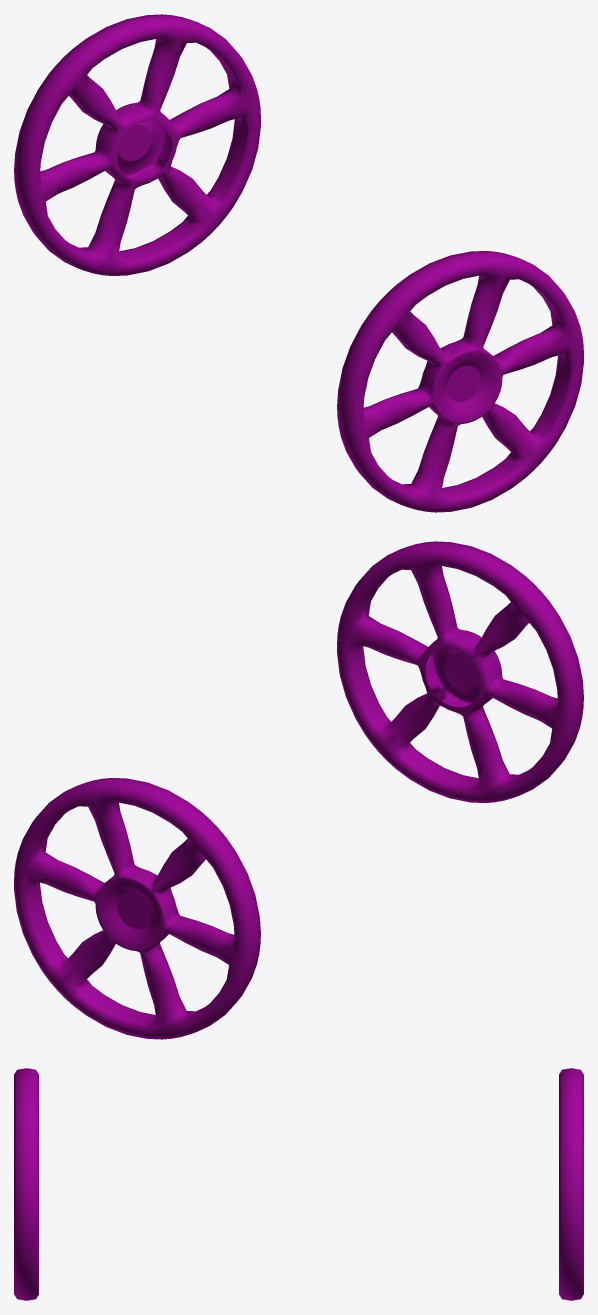
The model's file is Weapon_wheel_002.FBX.
3 renders of one model, top to bottom at view 1: azimuth 30°, elevation 25°; view 2: azimuth 150°, elevation 25°; view 3: azimuth 270°, elevation 25°, orthographic. The views are drawn at different scales.
Parts seen in each view (by area): view 1: Weapon_wheel_002; view 2: Weapon_wheel_002; view 3: Weapon_wheel_002.
Part boxes in pixels (box(x1,y1,x2,y2)): Weapon_wheel_002: box(14, 14, 583, 512); Weapon_wheel_002: box(14, 541, 583, 1039); Weapon_wheel_002: box(14, 1068, 583, 1300).
Bounding box in the file's own units: 122 × 122 × 299.
